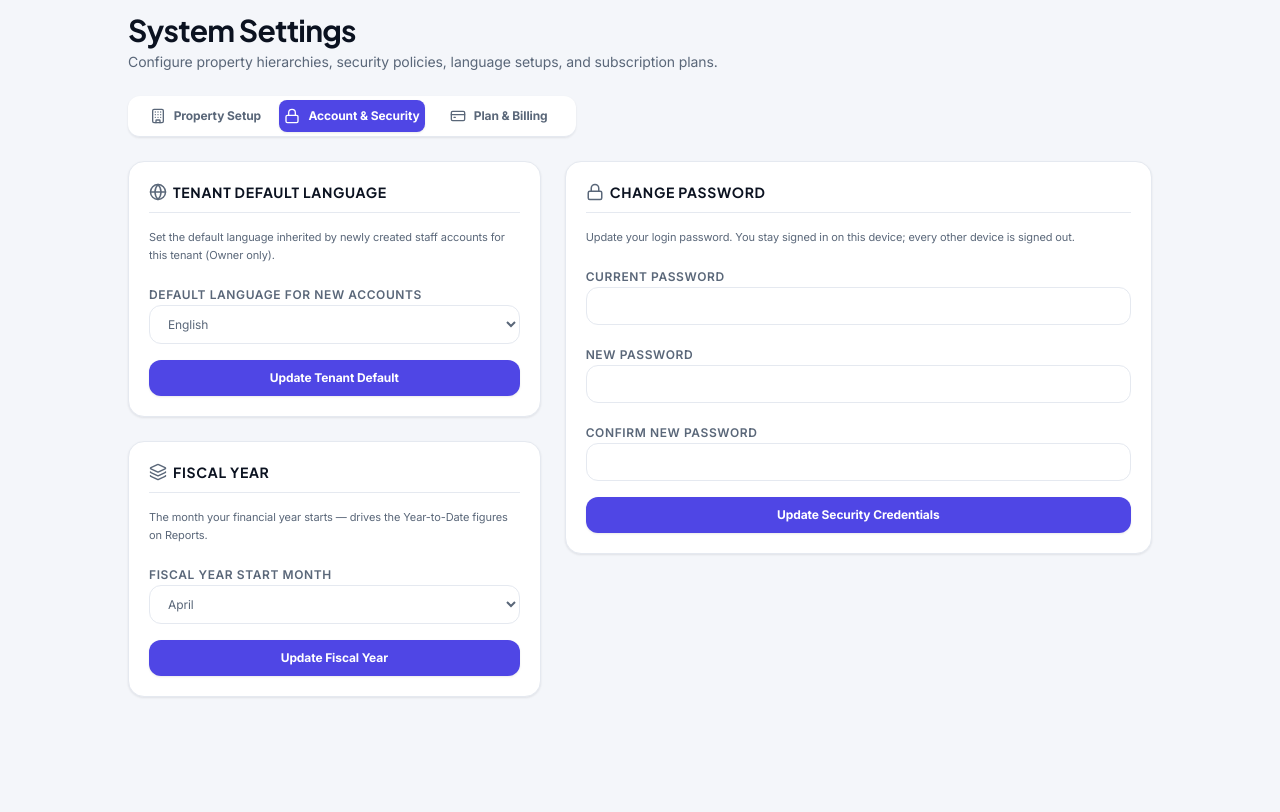
Settings → change password › the backend's strength message is shown under the new-password field
In the password field labelled "Current Password": (858, 306) [586, 287, 1131, 325], type "Vintage-Kite-77"
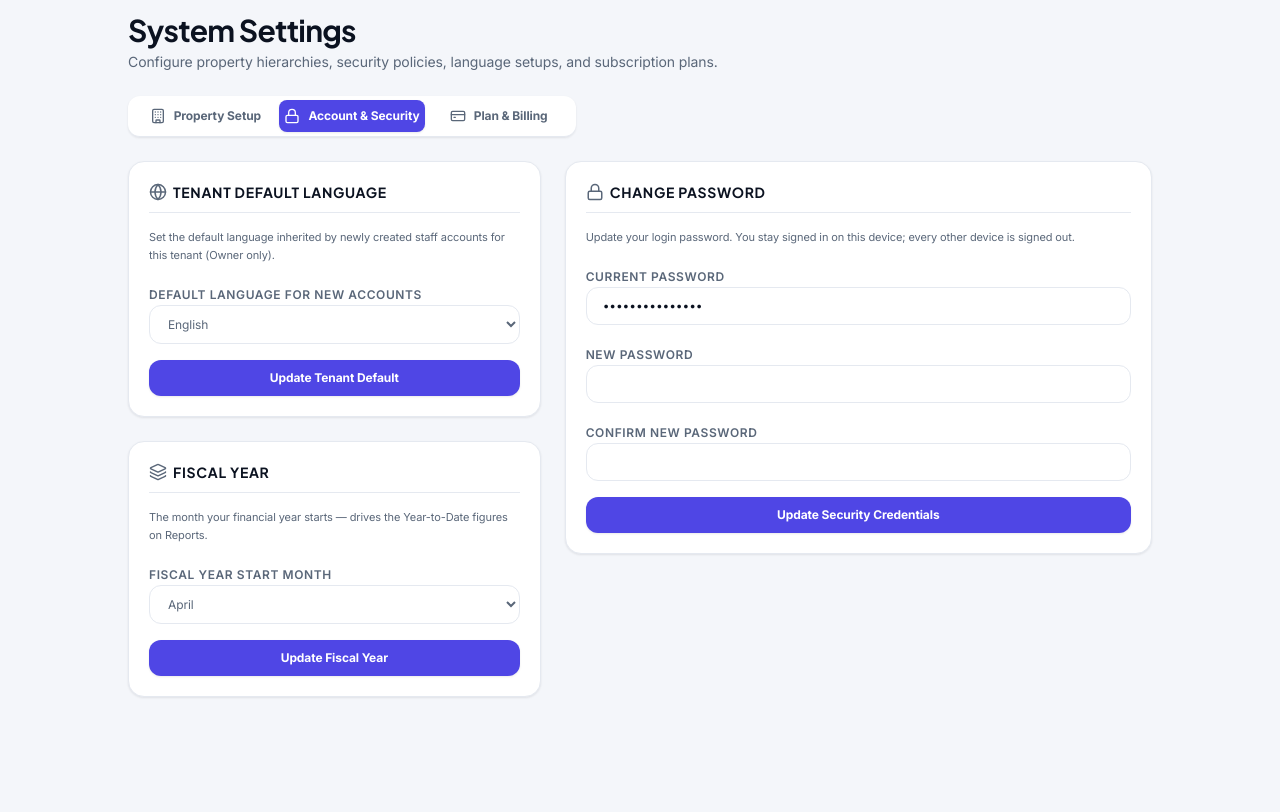
In the password field labelled "New Password": (858, 384) [586, 365, 1131, 403], type "Copper-Meadow-42"
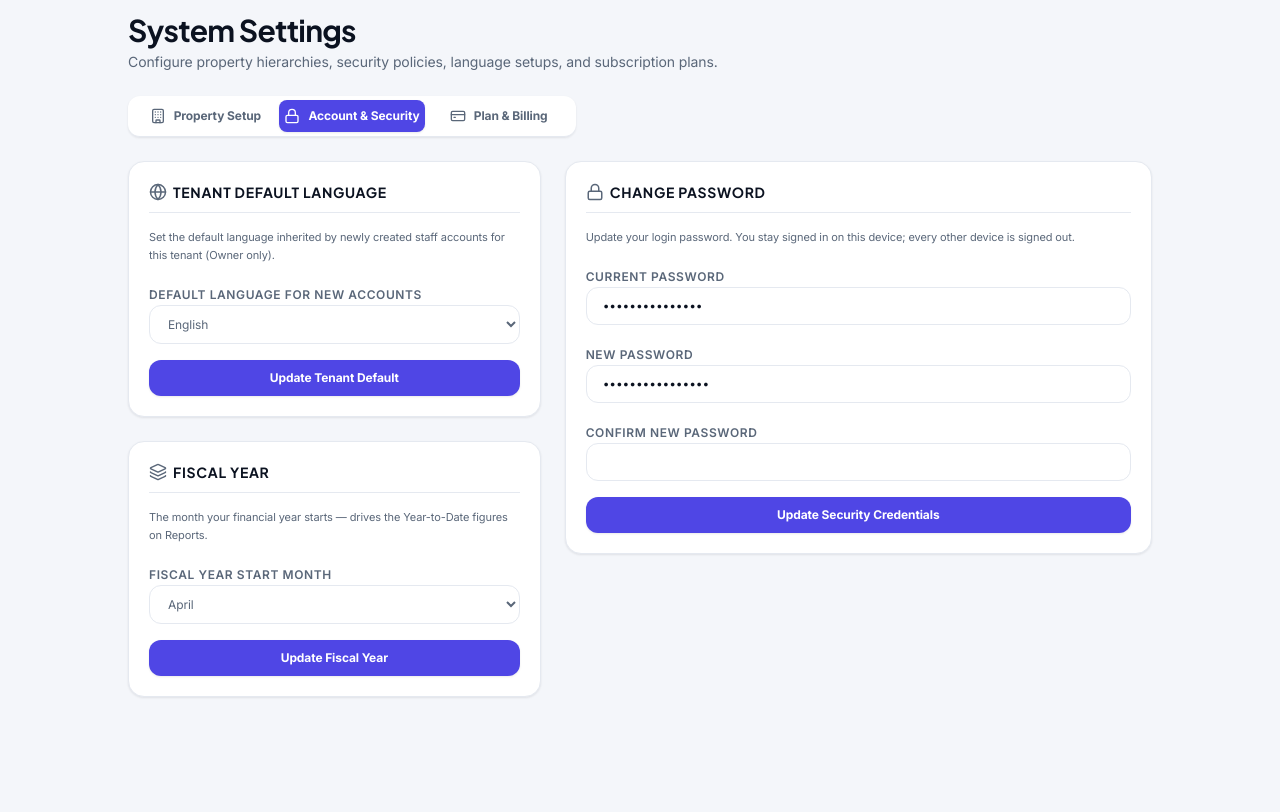
In the password field labelled "Confirm New Password": (858, 462) [586, 443, 1131, 481], type "Copper-Meadow-42"
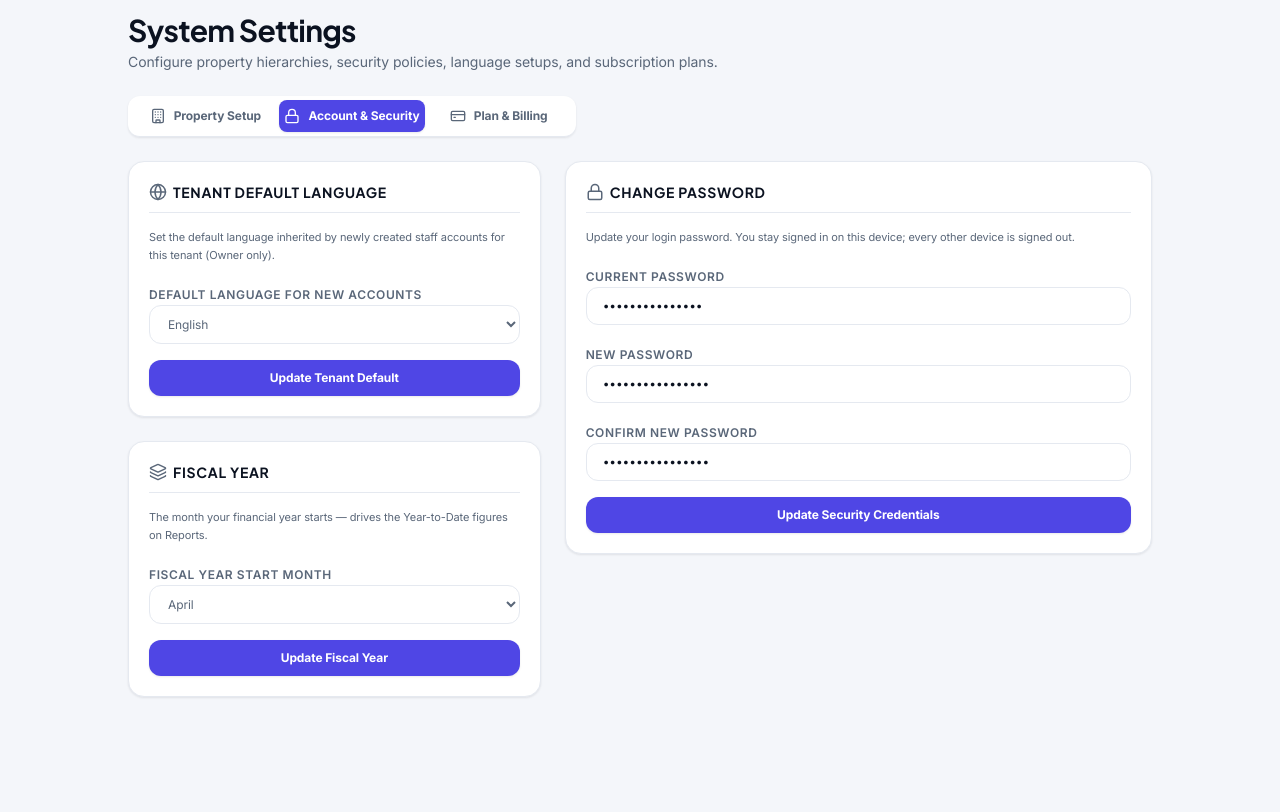
Click the button "Update Security Credentials": (858, 515) [586, 497, 1131, 533]
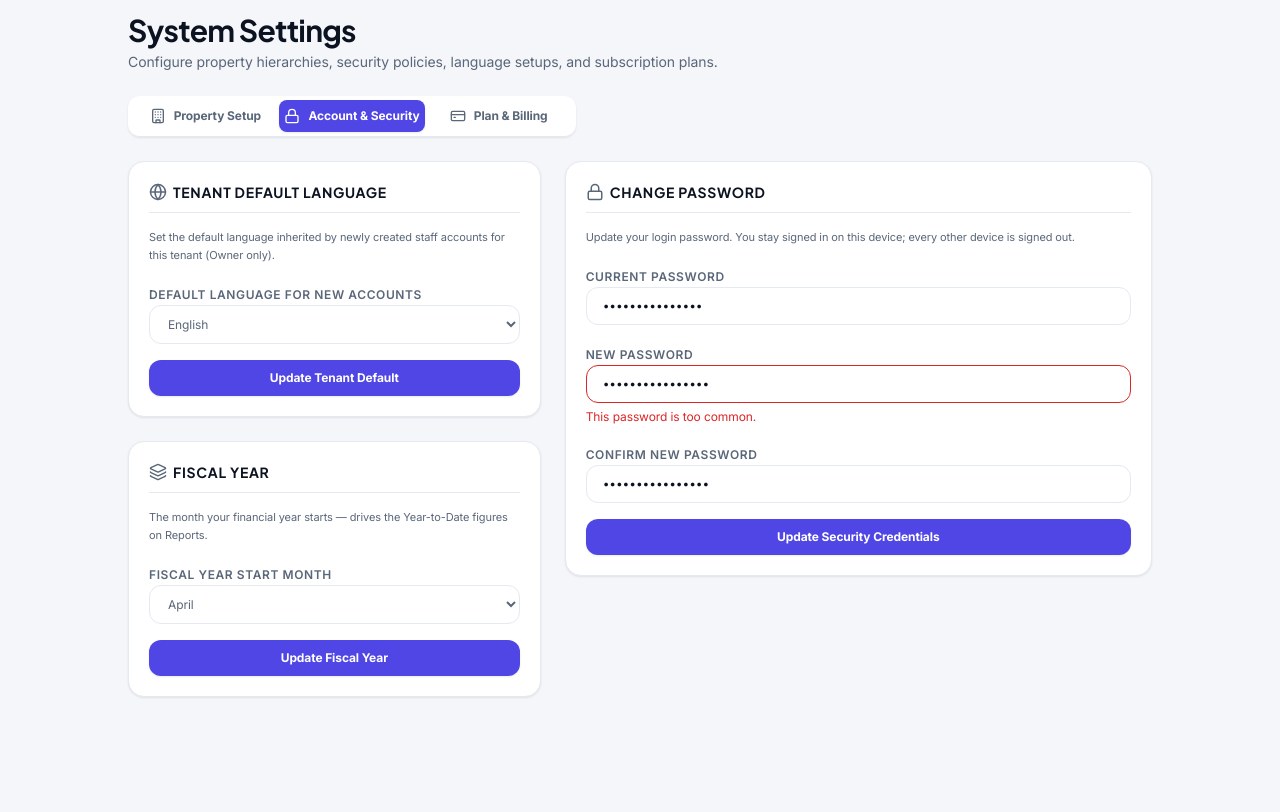
Expected: the text "This password is too common." is shown, [586, 409, 756, 424]
